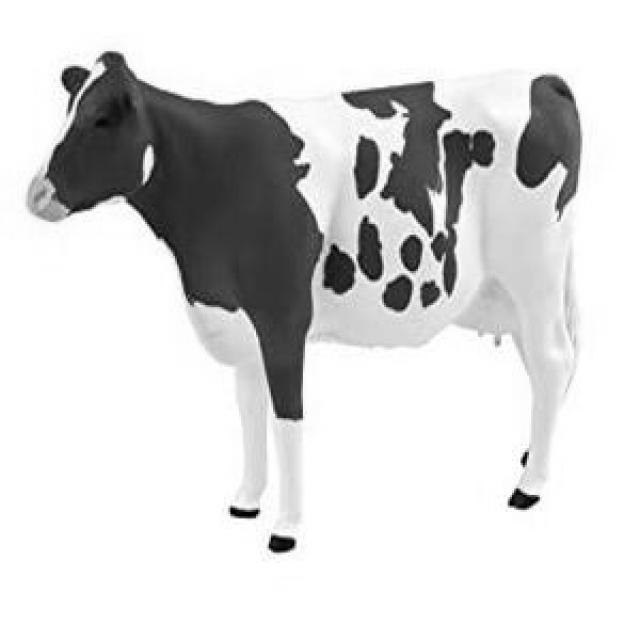cow: (28, 52, 581, 551)
